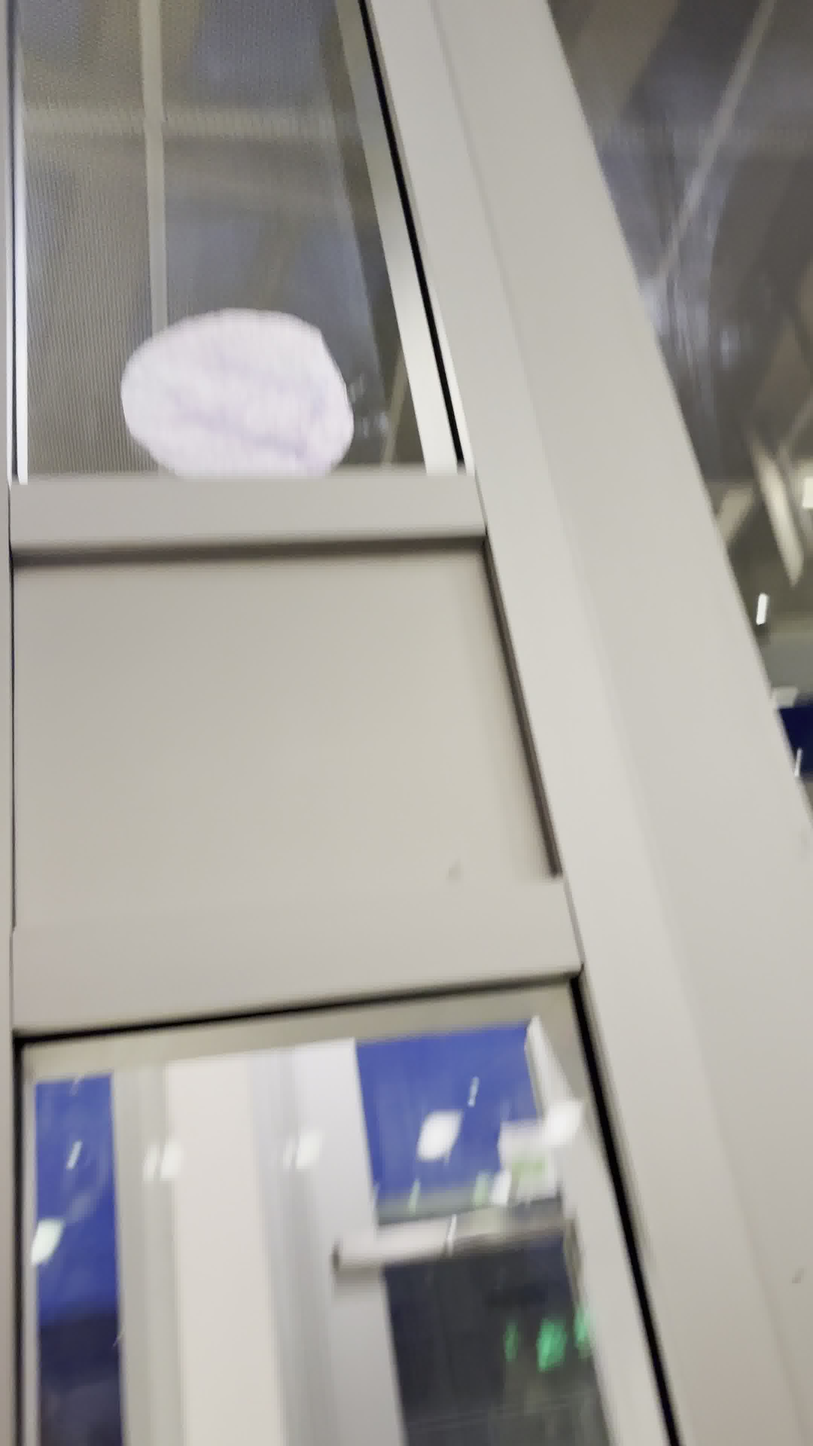Target: (117, 306, 358, 483)
